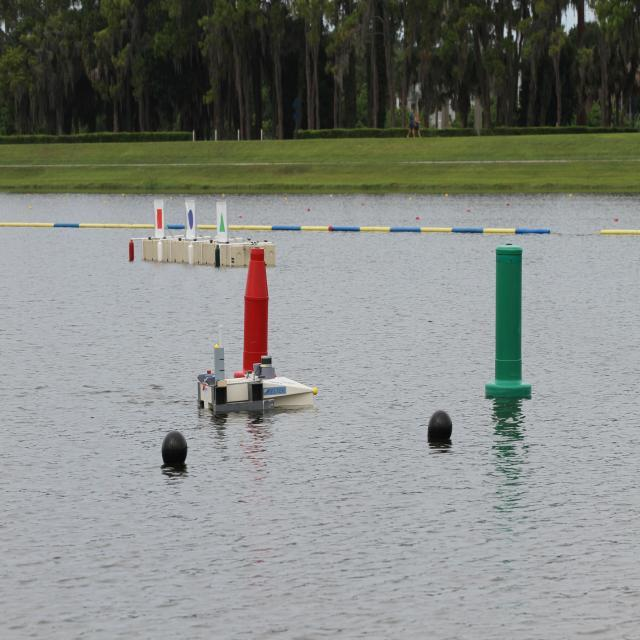buoy: (160, 426, 188, 470), (428, 408, 454, 448)
